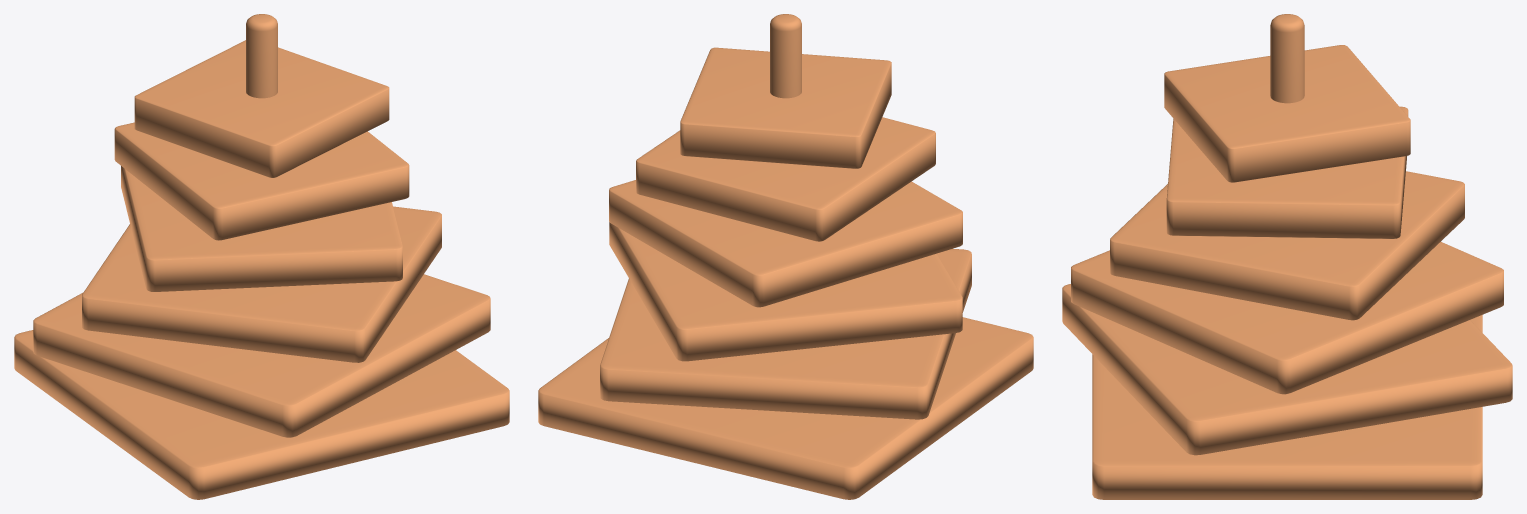
3 renders of one model, left to right at view 1: azimuth 30°, elevation 25°; view 2: azimuth 150°, elevation 25°; view 3: azimuth 270°, elevation 25°, orthographic. The views are drawn at different scales.
Parts seen in each view (by area): view 1: Layer0, Layer1, Layer2, Layer5, Layer3, Layer4, Core; view 2: Layer0, Layer1, Layer2, Layer3, Layer5, Layer4, Core; view 3: Layer1, Layer0, Layer2, Layer3, Layer5, Layer4, Core.
Boxes of the visible parts, <box> form: Layer0: <box>14,330,509,499</box>; Layer1: <box>33,274,490,437</box>; Layer2: <box>82,206,441,362</box>; Layer5: <box>134,40,389,177</box>; Layer3: <box>121,166,402,291</box>; Layer4: <box>114,122,409,240</box>; Core: <box>246,14,277,98</box>; Layer0: <box>538,317,1033,499</box>; Layer1: <box>600,248,971,419</box>; Layer2: <box>609,222,962,361</box>; Layer3: <box>609,180,962,307</box>; Layer5: <box>680,47,891,168</box>; Layer4: <box>636,117,935,241</box>; Core: <box>770,14,801,98</box>; Layer1: <box>1062,284,1512,455</box>; Layer0: <box>1092,315,1482,499</box>; Layer2: <box>1071,242,1503,394</box>; Layer3: <box>1110,171,1464,320</box>; Layer5: <box>1164,45,1410,182</box>; Layer4: <box>1166,106,1408,238</box>; Core: <box>1270,14,1304,103</box>.
Size of the model in its own units: 1.85 by 1.86 by 1.85.
